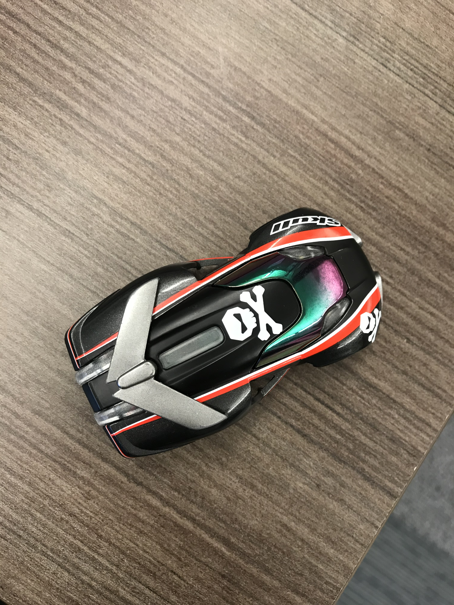Skull: (65, 206, 389, 460)
